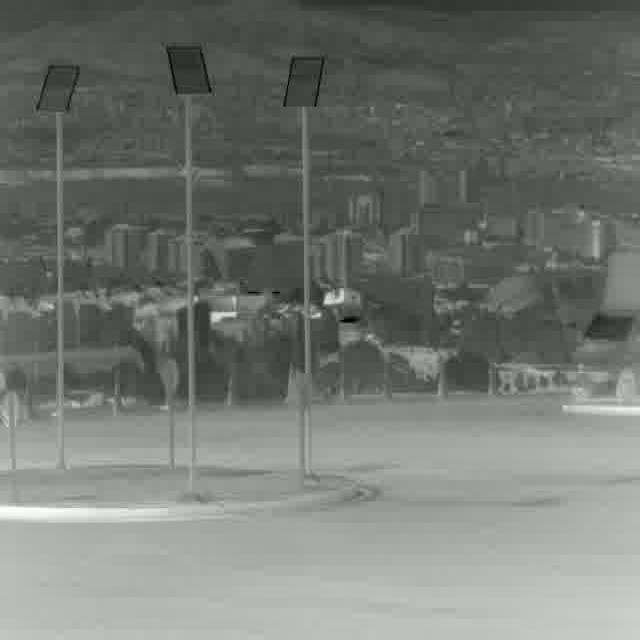Car: (572, 253, 640, 394)
